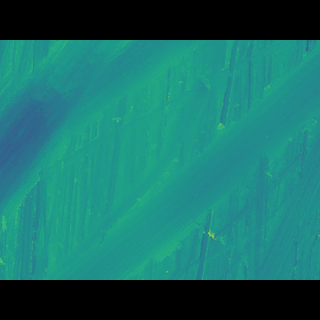Loch: (41, 74, 320, 249), (0, 69, 205, 218)
